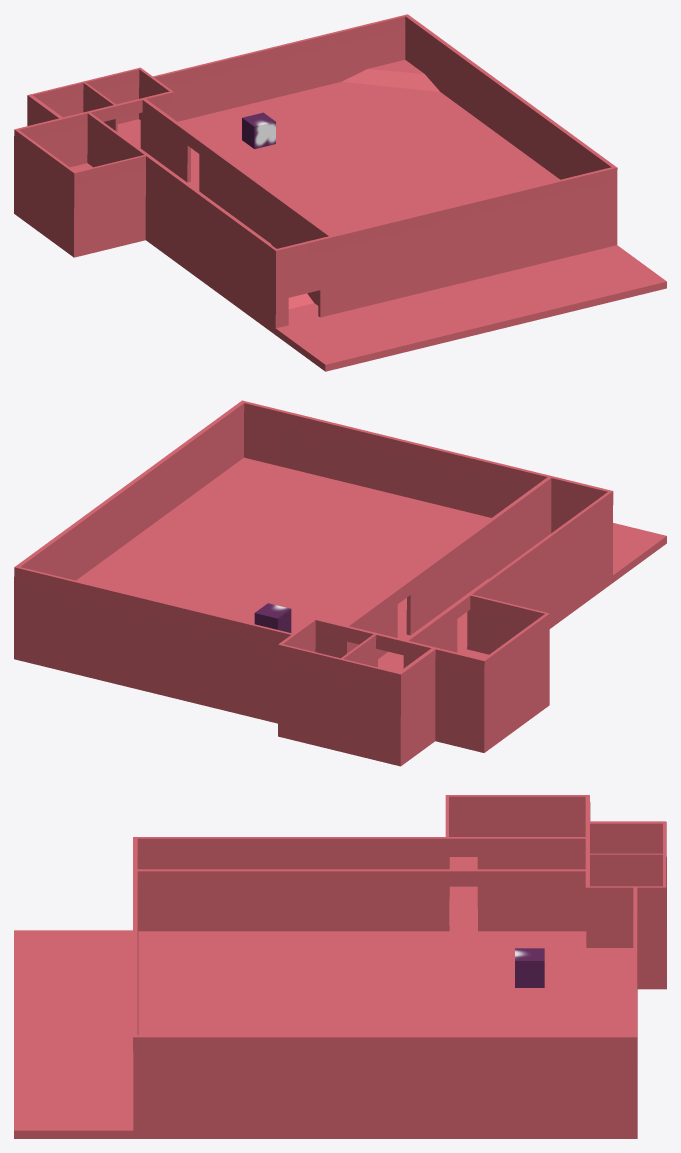
Rendered from teste_base.glb.
3 renders of one model, top to bottom at view 1: azimuth 30°, elevation 25°; view 2: azimuth 150°, elevation 25°; view 3: azimuth 270°, elevation 25°, orthographic. The views are drawn at different scales.
Parts seen in each view (by area): view 1: Cube, Cube.001; view 2: Cube, Cube.001; view 3: Cube, Cube.001.
Part boxes in pixels (x1=…): Cube: x1=14, y1=14, x2=666, y2=371; Cube.001: x1=242, y1=112, x2=275, y2=149; Cube: x1=14, y1=400, x2=666, y2=766; Cube.001: x1=254, y1=603, x2=291, y2=632; Cube: x1=14, y1=795, x2=666, y2=1138; Cube.001: x1=515, y1=948, x2=544, y2=987.
Bounding box in the file's own units: 38.57 × 7.54 × 43.92.
2 materials, 1 textured.
